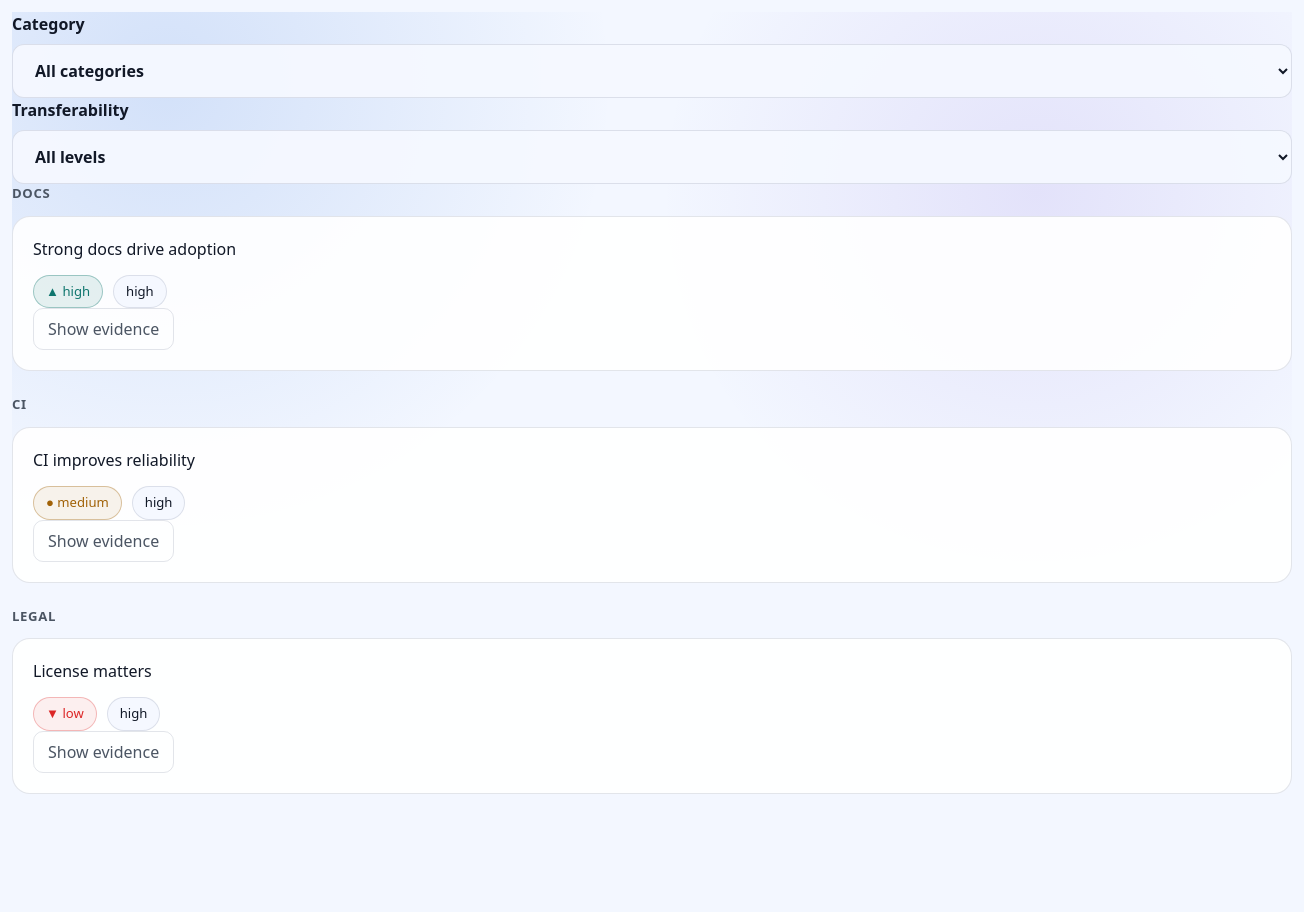
Test: HypothesisCards › filtering by transferability (Requirement 17.2) › filters to show only medium transferability
The width and height of the screenshot is (1304, 912).
Select "● medium" in the dropdown labelled "Transferability". click: {"x": 652, "y": 157}
box: [12,130,1292,184]
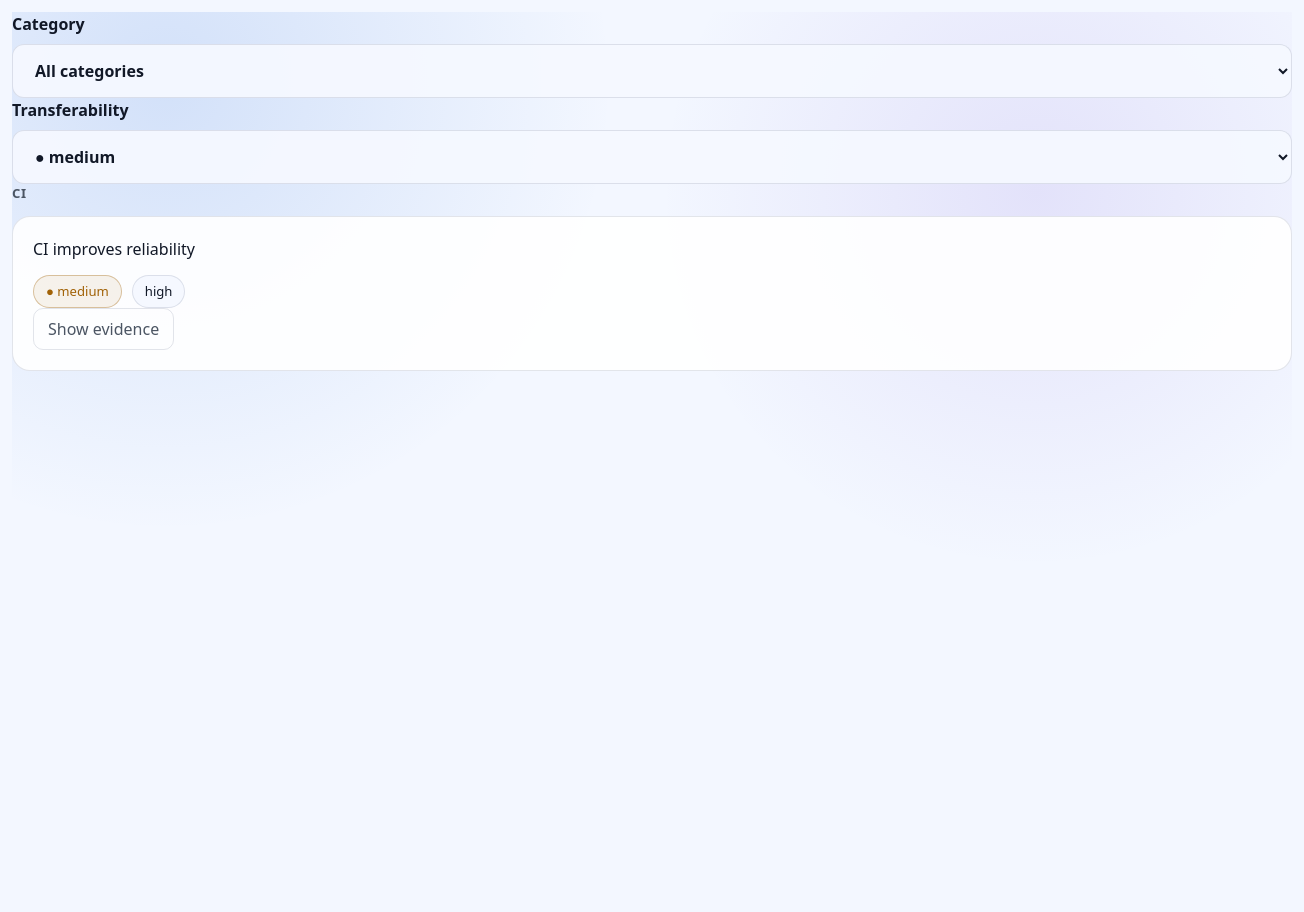
Expected: the heading "CI improves reliability" is shown, [33,237,195,261]
Expected: the heading "Strong docs drive adoption" is gone
